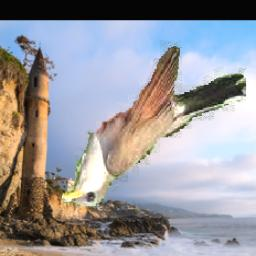Cuckoo: (61, 39, 245, 206)
